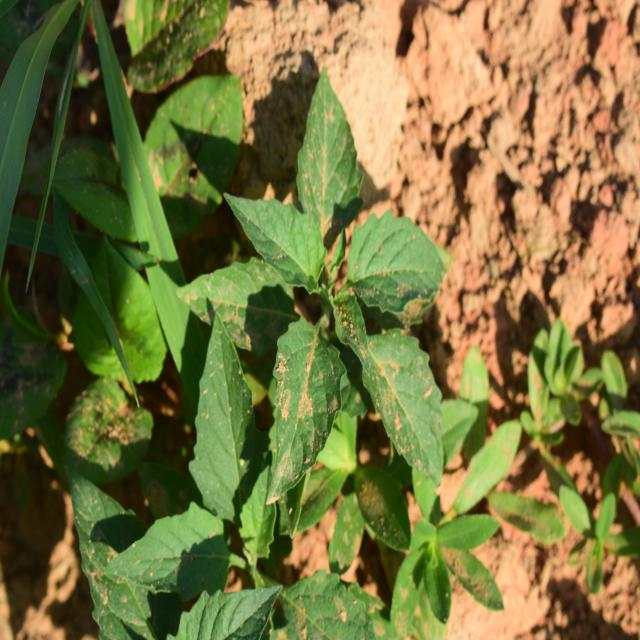Black_nightshade: (212, 116, 448, 478), (133, 374, 347, 638)
